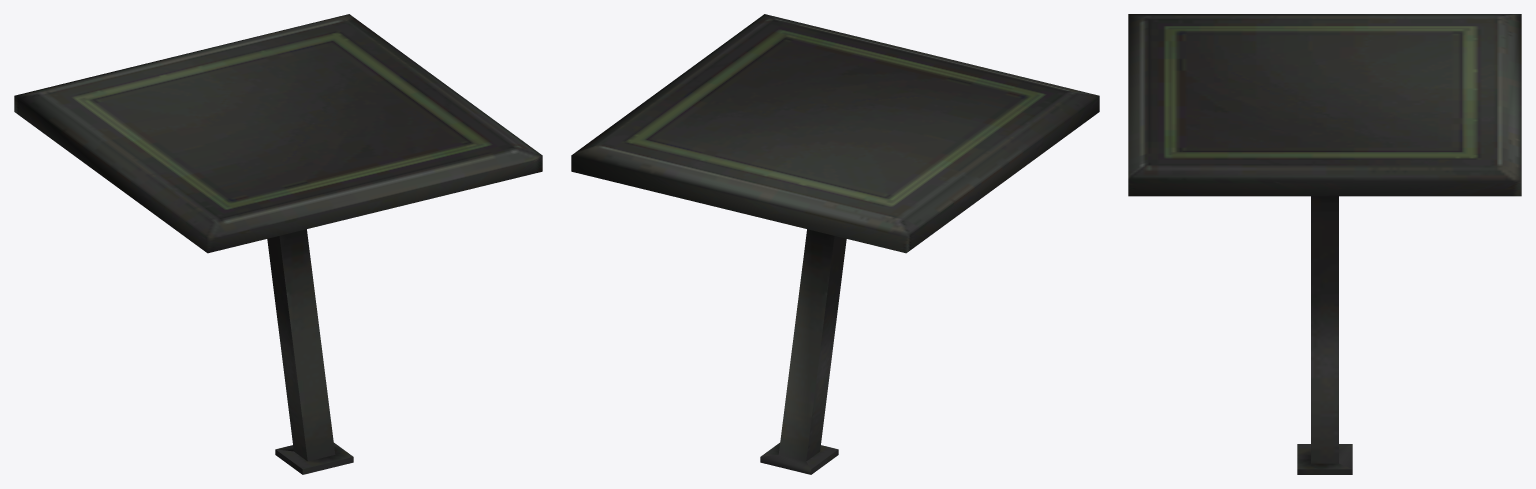
The model's file is table1.glb.
3 renders of one model, left to right at view 1: azimuth 30°, elevation 25°; view 2: azimuth 150°, elevation 25°; view 3: azimuth 270°, elevation 25°, orthographic.
Parts seen in each view (by area): view 1: cube4; view 2: cube4; view 3: cube4.
Part boxes in pixels (x1,y1,x2,y2): cube4: (14, 14, 542, 474); cube4: (571, 14, 1099, 474); cube4: (1128, 14, 1521, 474).
Size of the model in its own units: 43.8 by 43.39 by 43.78.
1 material, 1 textured.
